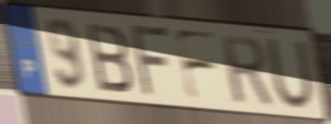9: (44, 15, 87, 95)
B: (83, 20, 135, 96)
F: (172, 27, 220, 104), (129, 23, 174, 100)
R: (217, 31, 276, 108)
U: (263, 36, 319, 111)
